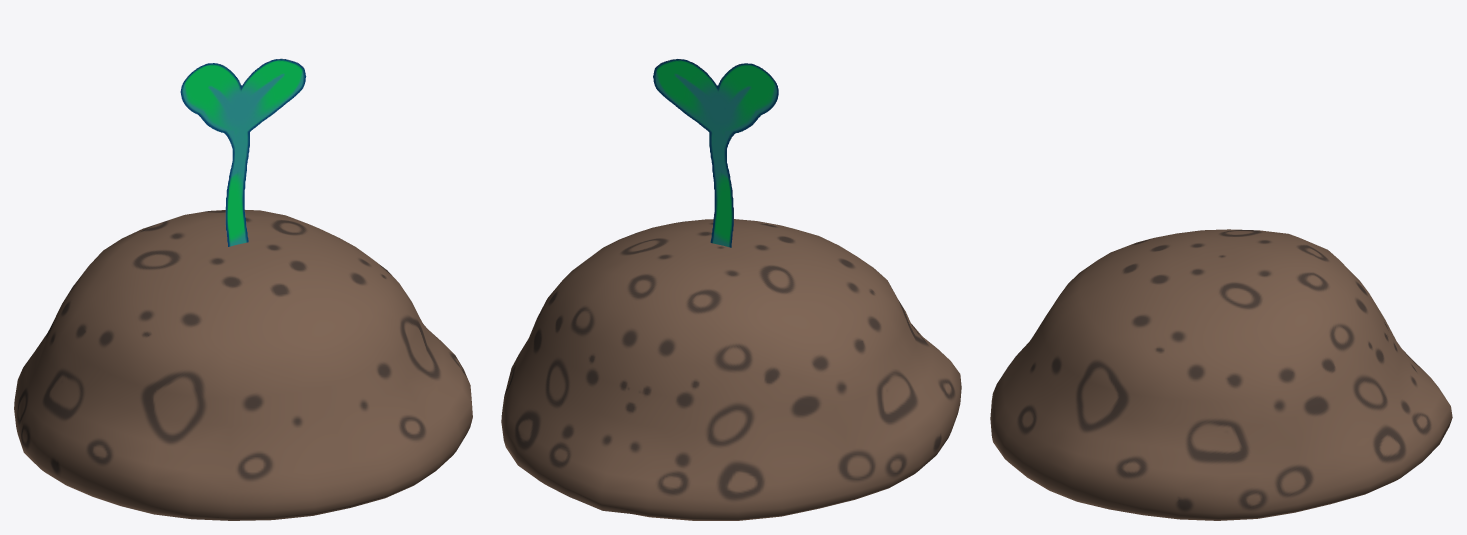
Rendered from sprout_dirt1.fbx.
The picture shows the model from 3 angles, left to right: view 1: azimuth 30°, elevation 25°; view 2: azimuth 150°, elevation 25°; view 3: azimuth 270°, elevation 25°; orthographic projection. The views are drawn at different scales.
Parts seen in each view (by area): view 1: clumptwo_low, sprout; view 2: clumptwo_low, sprout; view 3: clumptwo_low.
Part boxes in pixels (<box>): clumptwo_low: <box>14,210,472,520</box>; sprout: <box>180,58,306,246</box>; clumptwo_low: <box>501,219,961,520</box>; sprout: <box>653,59,778,247</box>; clumptwo_low: <box>990,229,1452,520</box>.
Size of the model in its own units: 1.01 by 0.9528 by 1.06.
Materials: 2 (2 with a texture image).
